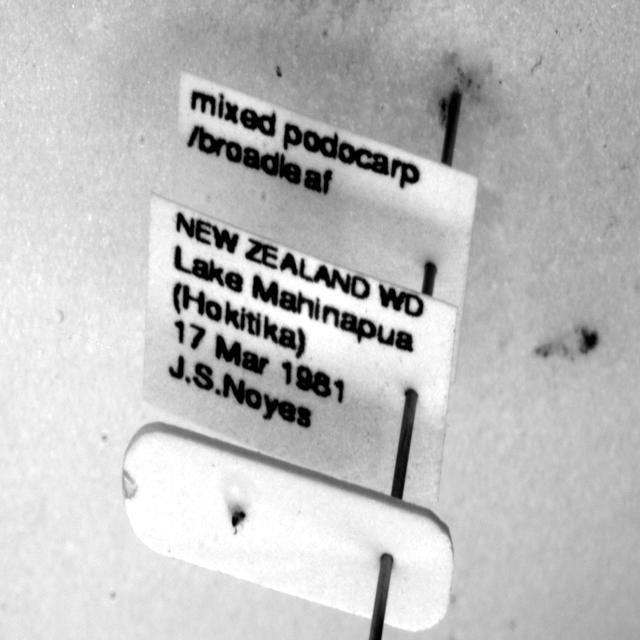typed_label: (144, 195, 456, 501), (175, 71, 478, 379)
